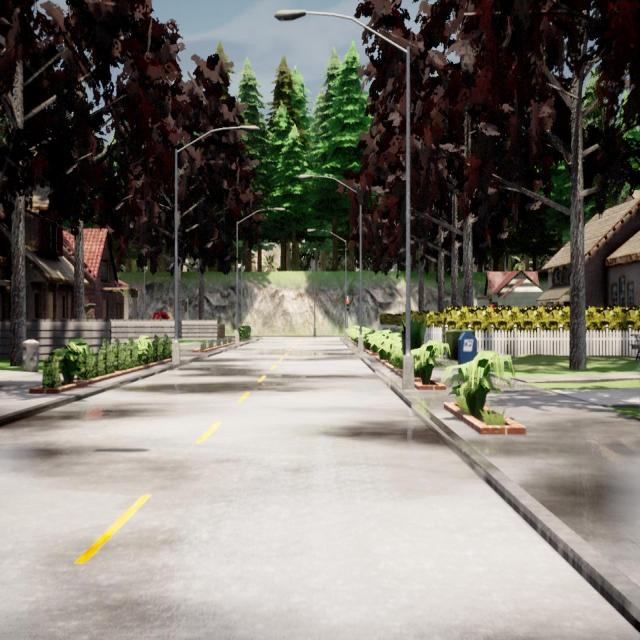traffic_light: (346, 300, 349, 311)
